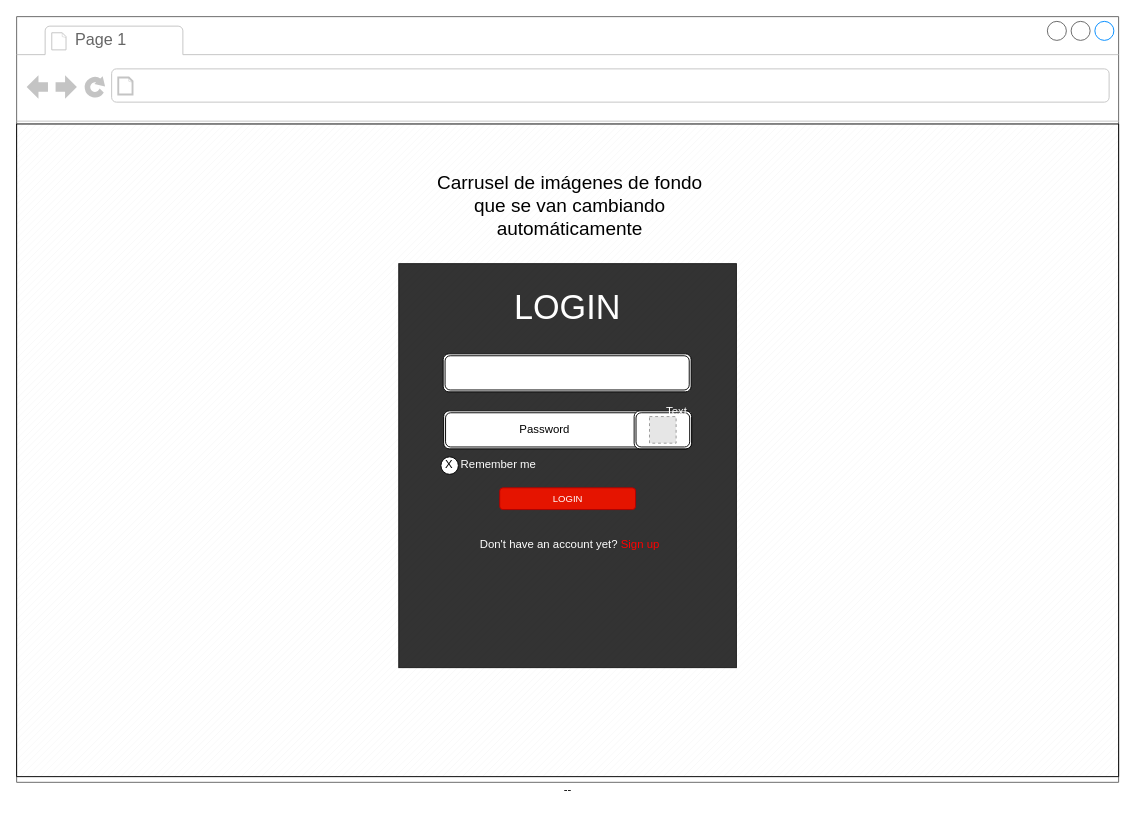
The diagram is 1135 pixels wide and 813 high, and some of its shapes have lost their labels. Grey dashed boxes stand in for pictures. Here are the shapes that lost their labels. From the top down, the centre of each, then its label:
At (258,85): "https://www.draw.io".
At (566,372): "Email".
